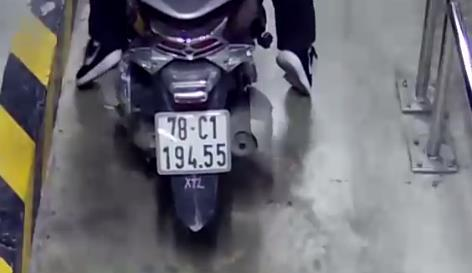lisence: (154, 109, 231, 175)
